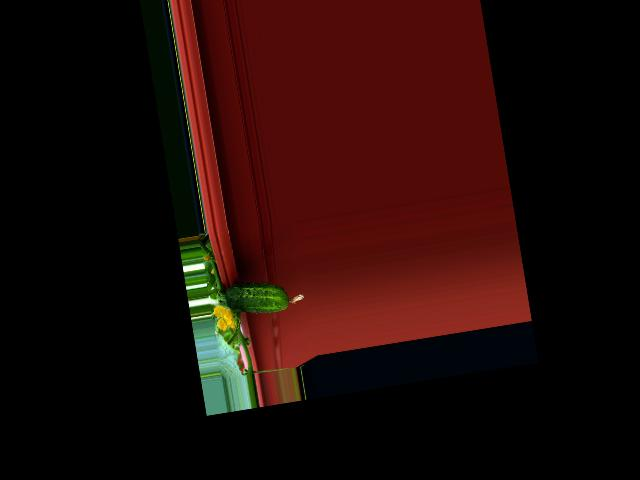cucumber: (223, 274, 306, 320)
